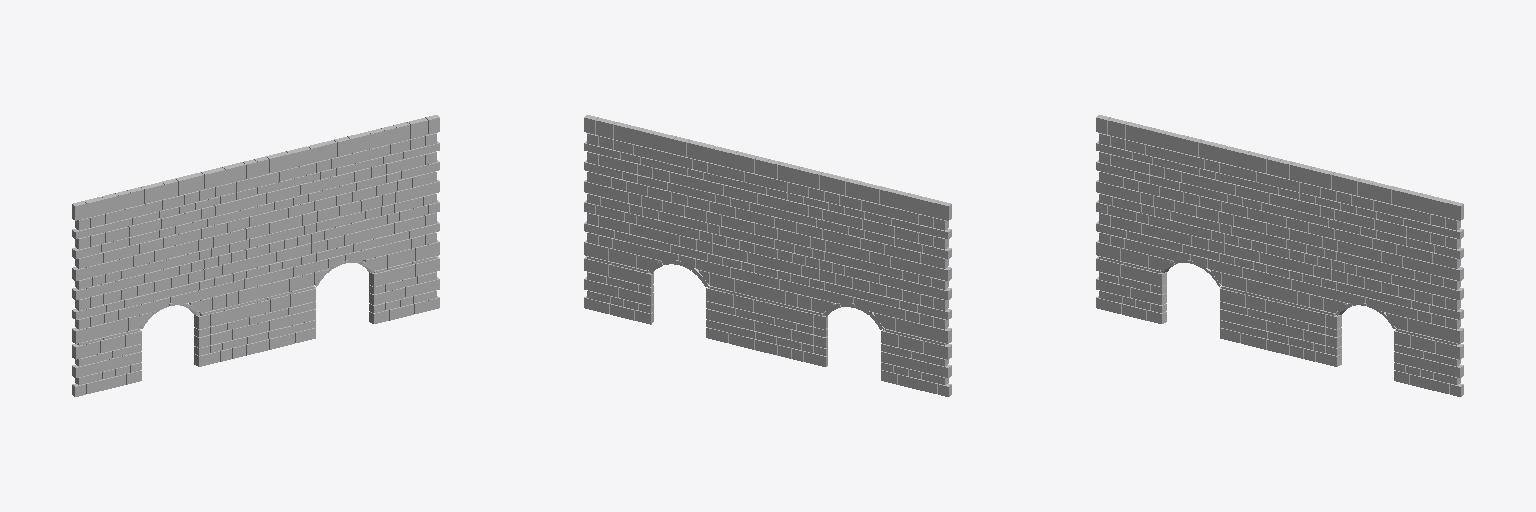
The model's file is titleWallRock.obj.
The picture shows the model from 3 angles: view 1: azimuth 30°, elevation 25°; view 2: azimuth 150°, elevation 25°; view 3: azimuth 330°, elevation 25°; orthographic projection.
Visible parts, largest first — view 1: Wall.008; view 2: Wall.008; view 3: Wall.008.
Boxes of the visible parts, x1,y1,x2,y2 form: Wall.008: [72, 115, 439, 396]; Wall.008: [584, 115, 951, 396]; Wall.008: [1096, 115, 1463, 396].
Bounding box in the file's own units: 60 × 30 × 1.12.